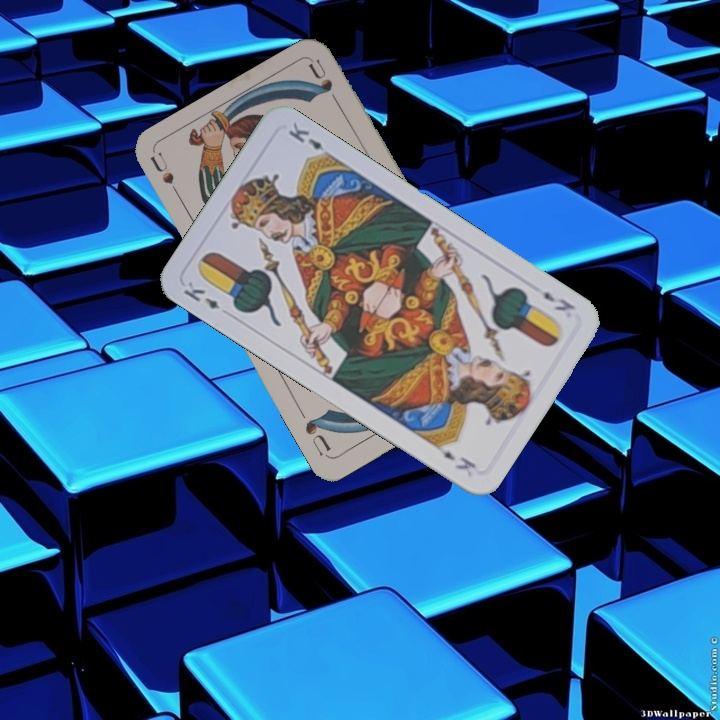EK: (179, 277, 222, 312), (539, 287, 578, 314)
SU: (147, 149, 186, 206)
